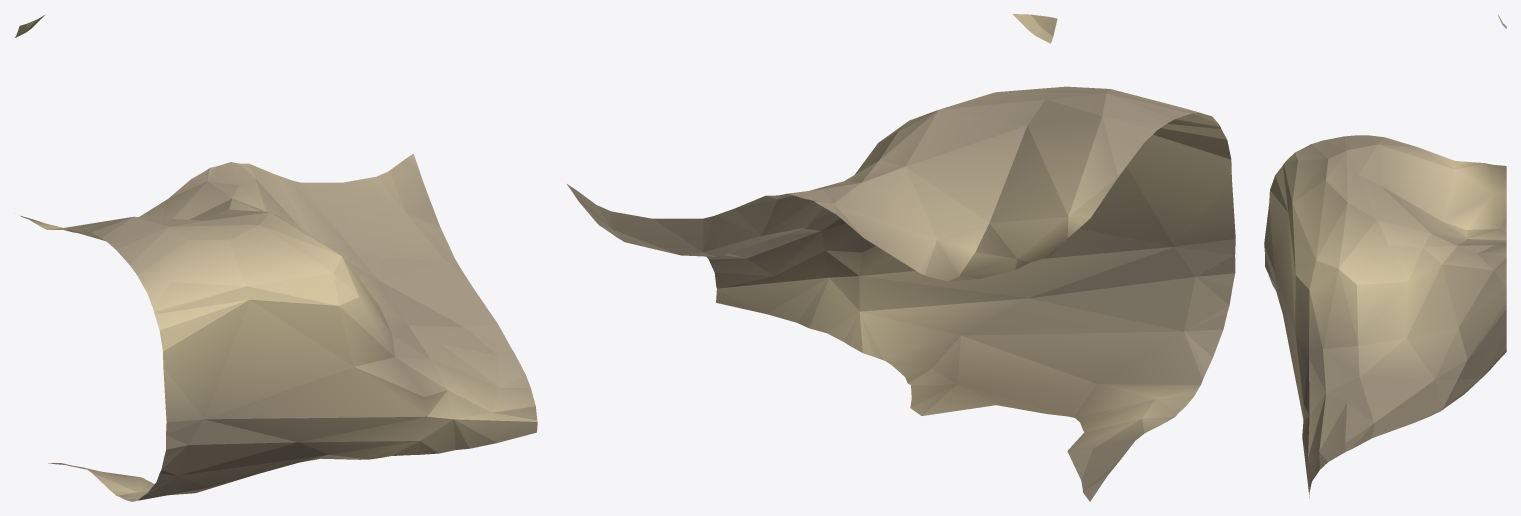
Rendered from bisect-5-4-9.gltf.
3 views of the same model, side by side, from view 1: azimuth 30°, elevation 25°; view 2: azimuth 150°, elevation 25°; view 3: azimuth 270°, elevation 25° (orthographic). The views are drawn at different scales.
Parts seen in each view (by area): view 1: bisect-5-4-9; view 2: bisect-5-4-9; view 3: bisect-5-4-9.
Boxes of the visible parts, x1,y1,x2,y2 form: bisect-5-4-9: (15, 14, 537, 501); bisect-5-4-9: (567, 14, 1235, 501); bisect-5-4-9: (1264, 14, 1506, 498).
Size of the model in its own units: 20 by 20 by 13.21.
